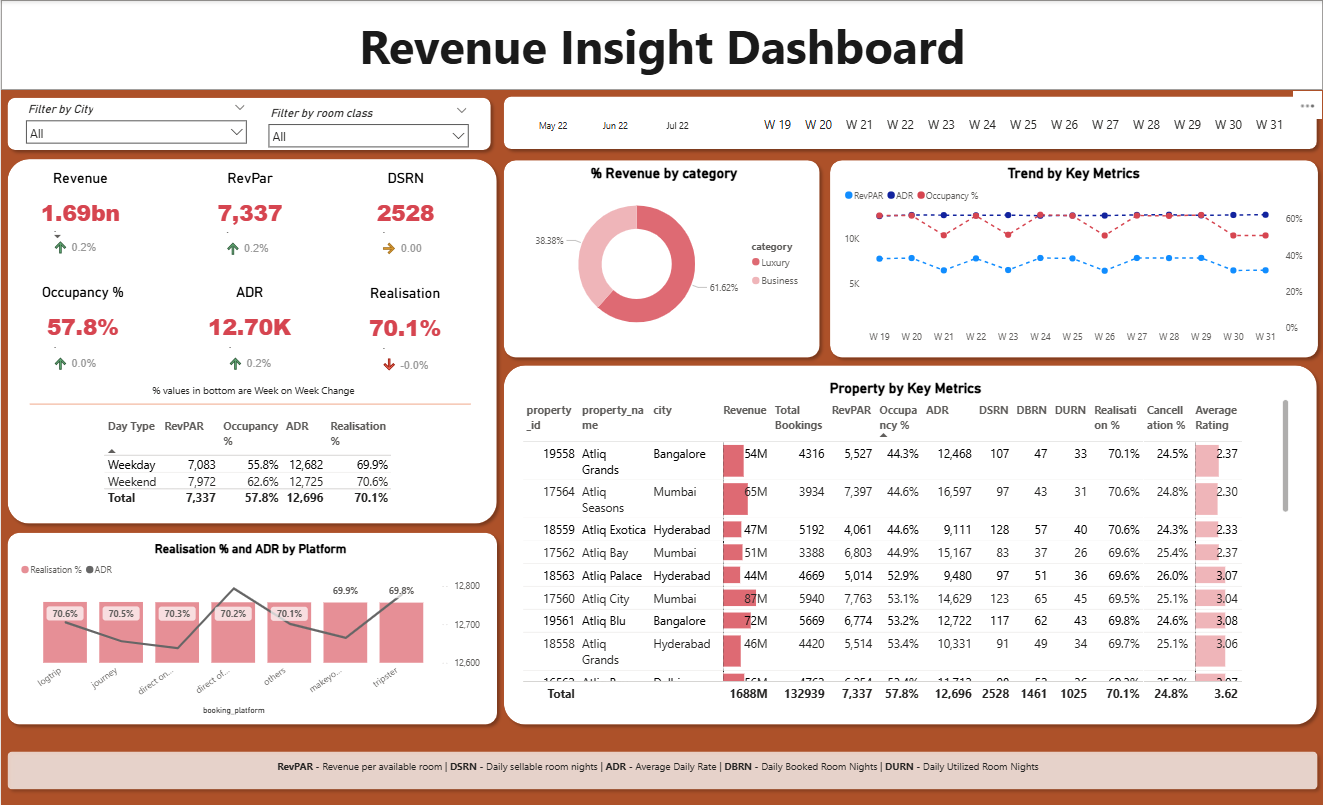

Layout of this report page (visuals, bound fields, positions):
{"tool":"powerbi","page":{"name":"Home","canvas":[1800,1100],"ordinal":0},"visuals":[{"type":"shape","box":[0.2,123.6,675.2,88.8],"z":0},{"type":"shape","box":[676,122.7,1124,89.3],"z":1000},{"type":"shape","box":[676,488,1124,506.7],"z":2000},{"type":"shape","box":[675.1,208.6,447.6,286.1],"z":3000},{"type":"shape","box":[1118.6,208.6,681.7,286.1],"z":4000},{"type":"shape","box":[0.2,207,683.4,513.9],"z":5000},{"type":"slicer","fields":{"Values":["dim_rooms.room_class"]},"box":[354.3,138.7,292.4,73.1],"z":6000},{"type":"slicer","fields":{"Values":["dim_hotels.city"]},"box":[24.4,135,320.6,75],"z":7000},{"type":"slicer","fields":{"Values":["dim_date.mmm yy"]},"box":[683.6,145.5,302.1,47.8],"z":8000},{"type":"card","title":"Revenue","fields":{"Values":["key_measures.Revenue"]},"box":[30.7,230.7,154.7,95.8],"z":8000,"group":"g2"},{"type":"card","title":"RevPar","fields":{"Values":["key_measures.Rev Par"]},"box":[257.9,230.7,160.2,95.8],"z":9000,"group":"g2"},{"type":"card","title":"Occupancy %","fields":{"Values":["key_measures.Occupancy %"]},"box":[14.7,386.3,192,96],"z":9000,"group":"g1"},{"type":"tableEx","title":"Property by Key Metrics","fields":{"Values":["dim_hotels.property_id","dim_hotels.property_name","dim_hotels.city","key_measures.Revenue","key_measures.Total Bookings","key_measures.Rev Par","key_measures.Occupancy %","key_measures.ADR","key_measures.DSRN","key_measures.DBRN","key_measures.DURN","key_measures.Realisation %"]},"box":[704,517.3,1053.3,445.3],"z":9000},{"type":"lineChart","title":"Trend by Key Metrics","fields":{"Category":["dim_date.mmm yy.Variation.Date Hierarchy.Month","dim_date.week no"],"Y2":["key_measures.Occupancy %"],"Y":["key_measures.Rev Par","key_measures.ADR"]},"box":[1142.7,225.3,633.3,252],"z":10000},{"type":"card","title":"DSRN","fields":{"Values":["key_measures.DSRN"]},"box":[456.5,231.1,189.3,96],"z":11000,"group":"g2"},{"type":"tableEx","fields":{"Values":["dim_date.day type","key_measures.Rev Par","key_measures.Occupancy %","key_measures.ADR","key_measures.Realisation %"]},"box":[135.1,564.9,437.2,129.8],"z":11000},{"type":"card","title":"ADR","fields":{"Values":["key_measures.ADR"]},"box":[241.4,385.9,193.3,96],"z":12000,"group":"g1"},{"type":"shape","box":[0,716,684,278.7],"z":12000},{"type":"card","title":"Realisation","fields":{"Values":["key_measures.Realisation %"]},"box":[452.5,386.8,194.7,96],"z":13000,"group":"g1"},{"type":"lineStackedColumnComboChart","title":"Realisation % and ADR by Platform","fields":{"Category":["fact_bookings.booking_platform"],"Y":["key_measures.Realisation %"],"Y2":["key_measures.ADR"]},"box":[21.3,736,634.7,241.3],"z":13000},{"type":"slicer","fields":{"Values":["dim_date.week no"]},"box":[1002.7,145.3,773.3,48],"z":14000},{"type":"shape","box":[0,1013.3,1800,69.3],"z":15000},{"type":"group","id":"g1","title":"Group 1","box":[14.7,385.9,632.4,96.9],"z":16000},{"type":"group","id":"g2","title":"Group 2","box":[30.7,230.7,615.1,96.4],"z":17000},{"type":"tableEx","fields":{"Values":["key_measures.Revpar WoW change %"]},"box":[296,297.3,92,58.7],"z":18000},{"type":"textbox","box":[345,1029.6,1093.6,39],"z":19000},{"type":"shape","box":[38.7,542.7,600,14.7],"z":20000},{"type":"tableEx","fields":{"Values":["key_measures.Revenue WoW change %"]},"box":[60.8,296.8,95.8,59],"z":21000},{"type":"tableEx","fields":{"Values":["key_measures.DSRN WoW change %"]},"box":[509.3,297.3,92,58.7],"z":22000},{"type":"donutChart","title":"% Revenue by category","fields":{"Category":["dim_hotels.category"],"Y":["key_measures.Revenue"]},"box":[704,225.3,396,248],"z":23000},{"type":"group","id":"g3","title":"Group 3","box":[61.3,454.3,540,60],"z":24000},{"type":"textbox","box":[200,517.3,308,33.3],"z":25000},{"type":"shape","box":[0,0,1799.6,121.8],"z":26000},{"type":"tableEx","fields":{"Values":["key_measures.Occupancy WoW change %"]},"box":[61.3,454.3,92,58.7],"z":27000,"group":"g3"},{"type":"tableEx","fields":{"Values":["key_measures.ADR WoW change %"]},"box":[298.6,454.3,92,58.7],"z":28000,"group":"g3"},{"type":"tableEx","fields":{"Values":["key_measures.Realisation WoW change %"]},"box":[509.3,455.6,92,58.7],"z":29000,"group":"g3"}]}

Visuals, with their boxes in screenshot pixels (x1, y1, x2, y2), scaled from the page's 1800x1100 canvas onto the 1323x805 screenshot:
shape: box(0, 90, 496, 155)
shape: box(497, 90, 1322, 155)
shape: box(497, 357, 1322, 728)
shape: box(496, 153, 825, 362)
shape: box(822, 153, 1322, 362)
shape: box(0, 151, 502, 528)
slicer - dim_rooms.room_class: box(260, 102, 475, 155)
slicer - dim_hotels.city: box(18, 99, 254, 154)
slicer - dim_date.mmm yy: box(502, 106, 724, 141)
"Revenue" card: box(23, 169, 136, 239)
"RevPar" card: box(190, 169, 307, 239)
"Occupancy %" card: box(11, 283, 152, 353)
"Property by Key Metrics" tableEx: box(517, 379, 1292, 704)
"Trend by Key Metrics" lineChart: box(840, 165, 1305, 349)
"DSRN" card: box(336, 169, 475, 239)
tableEx - dim_date.day type x key_measures.Rev Par: box(99, 413, 421, 508)
"ADR" card: box(177, 282, 320, 353)
shape: box(0, 524, 503, 728)
"Realisation" card: box(333, 283, 476, 353)
"Realisation % and ADR by Platform" lineStackedColumnComboChart: box(16, 539, 482, 715)
slicer - dim_date.week no: box(737, 106, 1305, 141)
shape: box(0, 742, 1322, 792)
"Group 1" group: box(11, 282, 476, 353)
"Group 2" group: box(23, 169, 475, 239)
tableEx - key_measures.Revpar WoW change %: box(218, 218, 285, 261)
textbox: box(254, 753, 1057, 782)
shape: box(28, 397, 469, 408)
tableEx - key_measures.Revenue WoW change %: box(45, 217, 115, 260)
tableEx - key_measures.DSRN WoW change %: box(374, 218, 442, 261)
"% Revenue by category" donutChart: box(517, 165, 808, 346)
"Group 3" group: box(45, 332, 442, 376)
textbox: box(147, 379, 373, 403)
shape: box(0, 0, 1322, 89)
tableEx - key_measures.Occupancy WoW change %: box(45, 332, 113, 375)
tableEx - key_measures.ADR WoW change %: box(219, 332, 287, 375)
tableEx - key_measures.Realisation WoW change %: box(374, 333, 442, 376)
